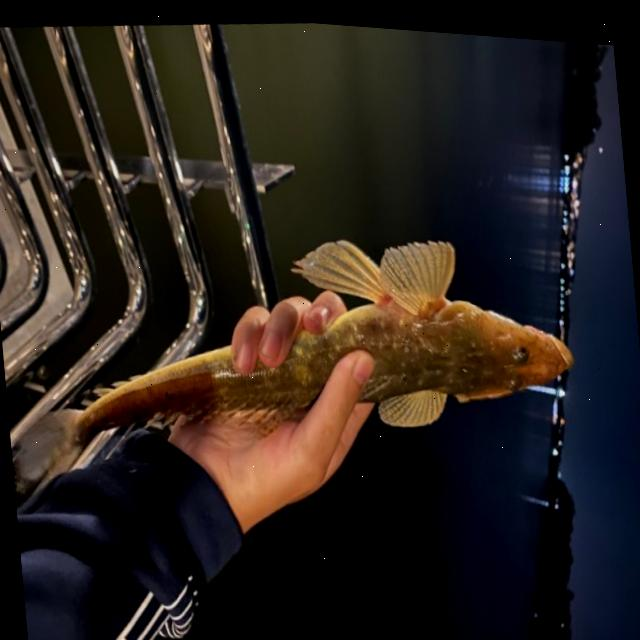Flathead: (43, 192, 587, 497)
